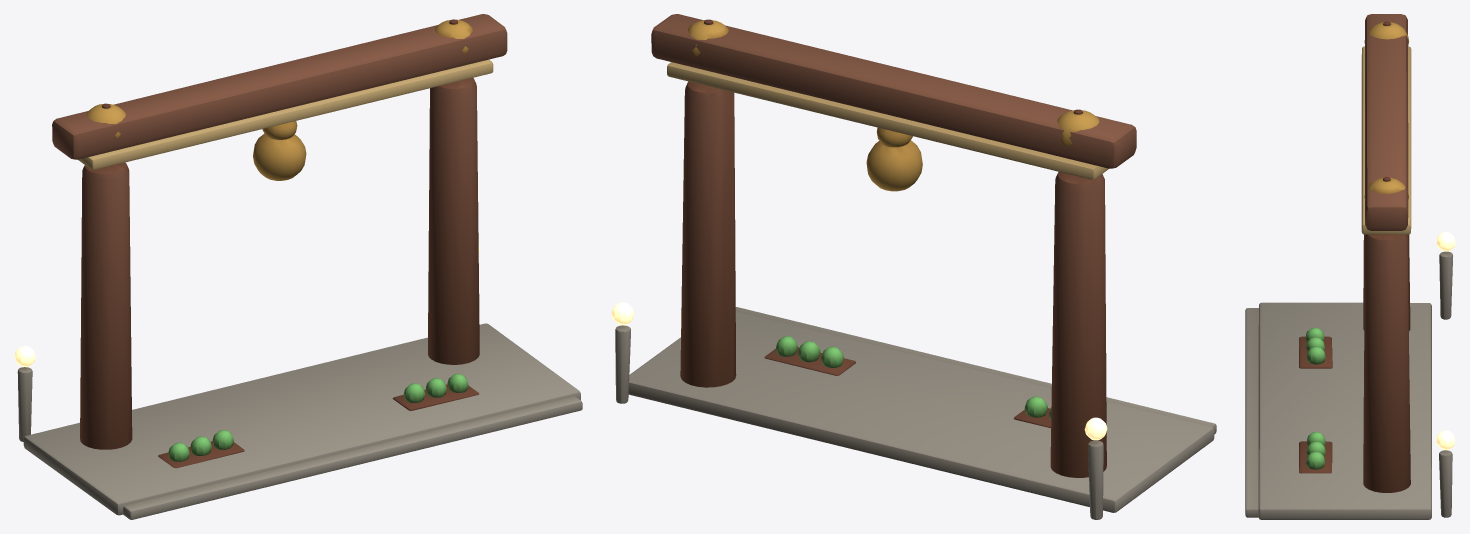
3 renders of one model, left to right at view 1: azimuth 30°, elevation 25°; view 2: azimuth 150°, elevation 25°; view 3: azimuth 270°, elevation 25°, orthographic. The views are drawn at different scales.
Parts seen in each view (by area): view 1: gate_f0aba5ee; view 2: gate_f0aba5ee; view 3: gate_f0aba5ee.
Part boxes in pixels (<box>): gate_f0aba5ee: <box>14,14,582,519</box>; gate_f0aba5ee: <box>611,14,1216,519</box>; gate_f0aba5ee: <box>1245,14,1455,519</box>.
Bounding box in the file's own units: 5.95 × 4.24 × 2.55.
